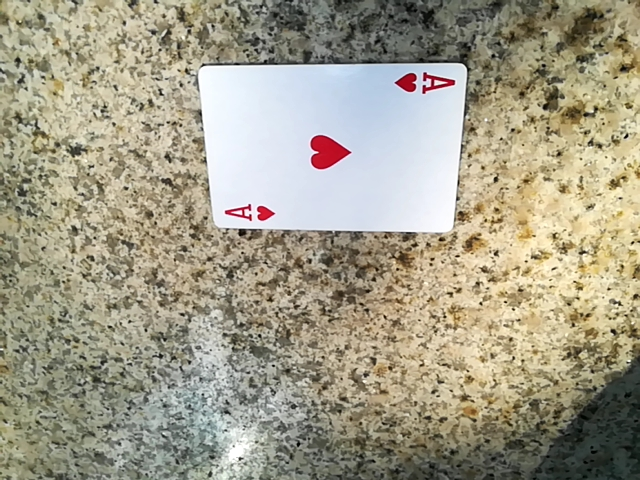hx a: (195, 62, 463, 235)
